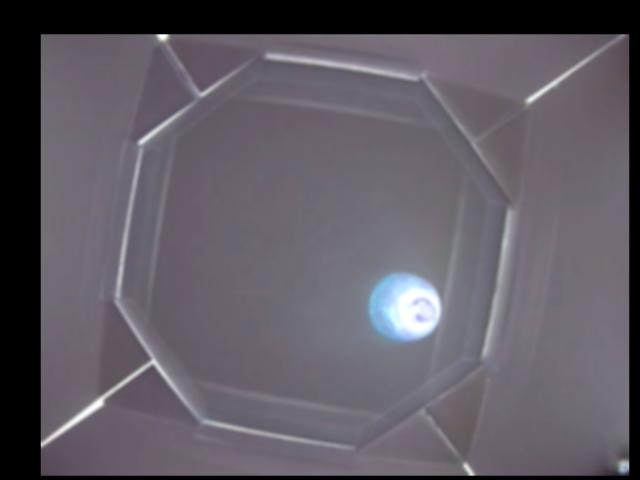Carrot: (366, 273, 442, 344)
